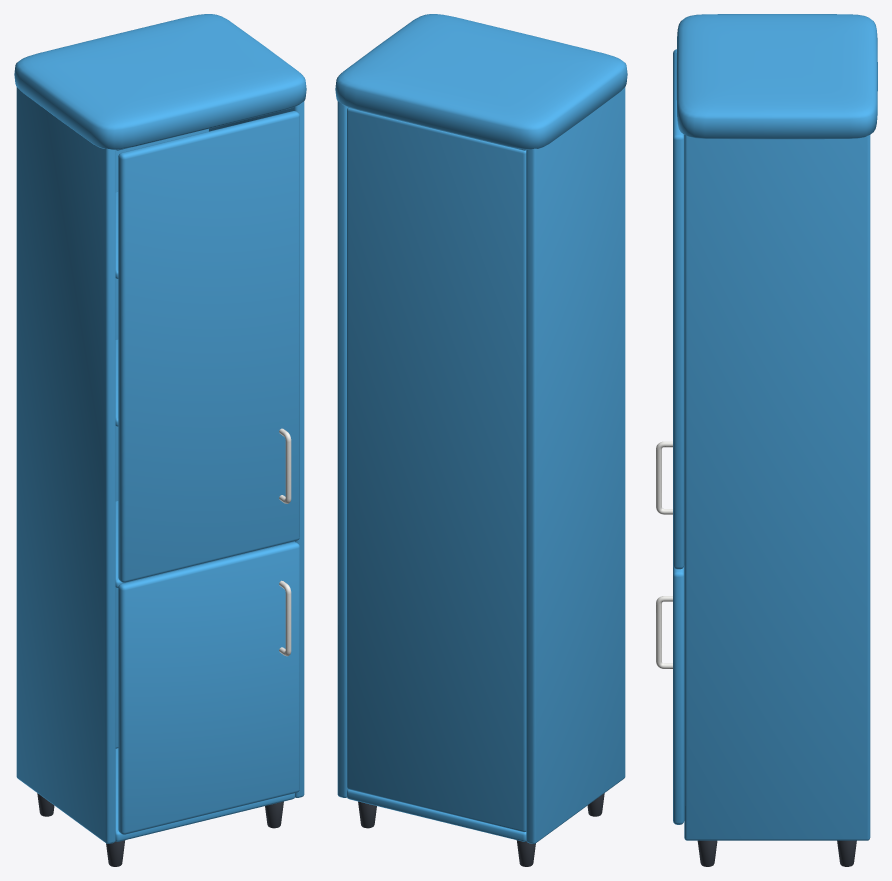
File: armario_alto_duas_portas_azul.glb
3 views of the same model, side by side, from view 1: azimuth 30°, elevation 25°; view 2: azimuth 150°, elevation 25°; view 3: azimuth 270°, elevation 25° (orthographic).
Visible parts, largest first — view 1: armario_alto_duas_portas_azul, porta_2, porta_1; view 2: armario_alto_duas_portas_azul; view 3: armario_alto_duas_portas_azul, porta_2, porta_1.
Part boxes in pixels (<box>): armario_alto_duas_portas_azul: <box>14,14,306,866</box>; porta_2: <box>118,111,299,582</box>; porta_1: <box>118,542,299,834</box>; armario_alto_duas_portas_azul: <box>335,14,627,866</box>; armario_alto_duas_portas_azul: <box>676,14,877,866</box>; porta_2: <box>656,49,684,569</box>; porta_1: <box>656,566,684,824</box>.
Size of the model in its own units: 0.48 by 1.63 by 0.4298.
Materials: 1 (1 with a texture image).
